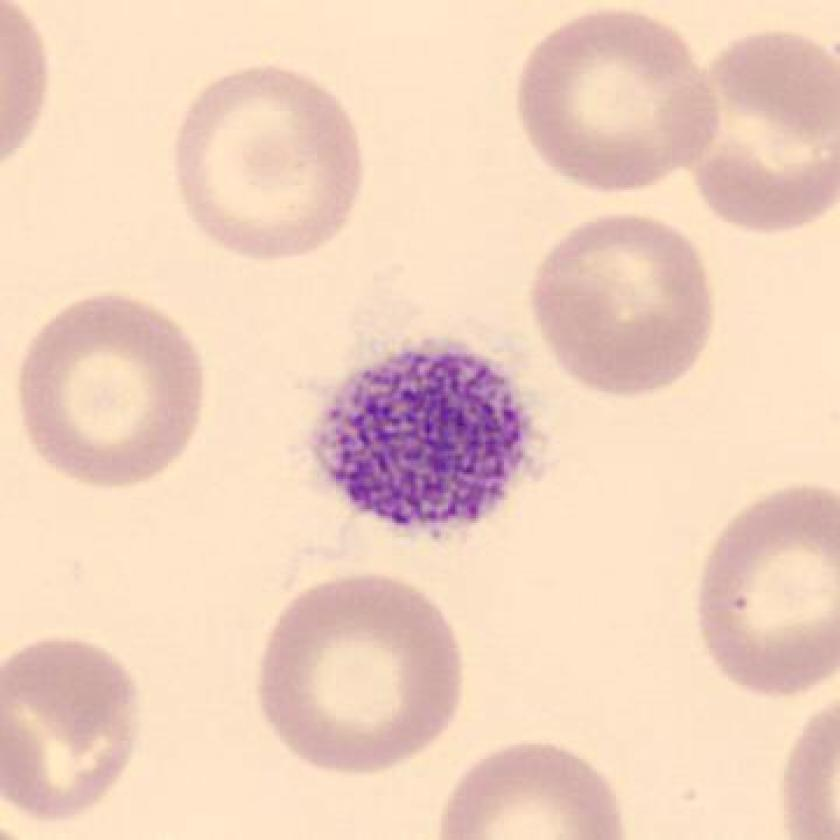platelets: (300, 332, 559, 542)
